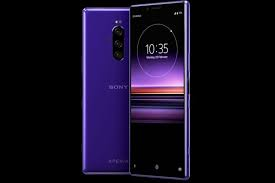sony: (128, 1, 190, 180), (83, 5, 130, 174)
